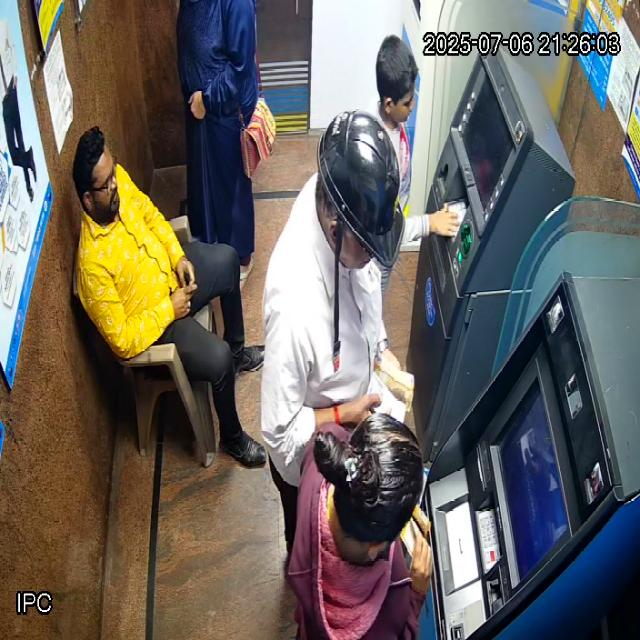helmet: (314, 109, 406, 271), (375, 35, 419, 129)
no_helmet: (312, 414, 425, 562), (72, 125, 120, 228)
